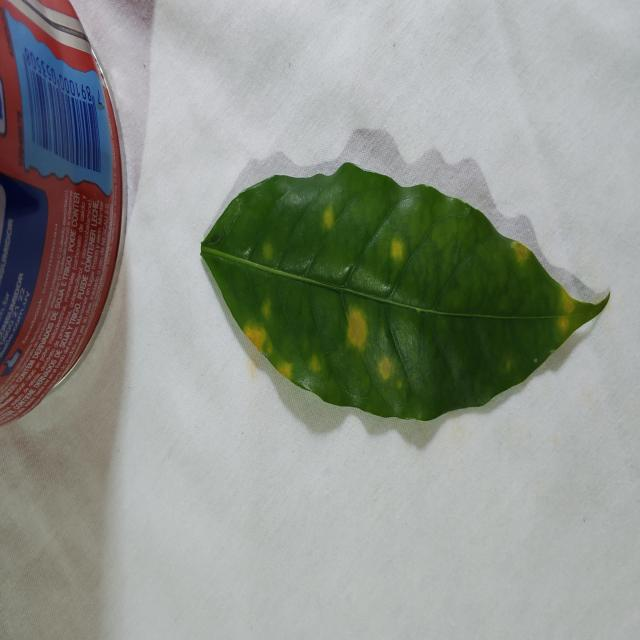Enfermedad-Roya: (199, 162, 609, 424)
